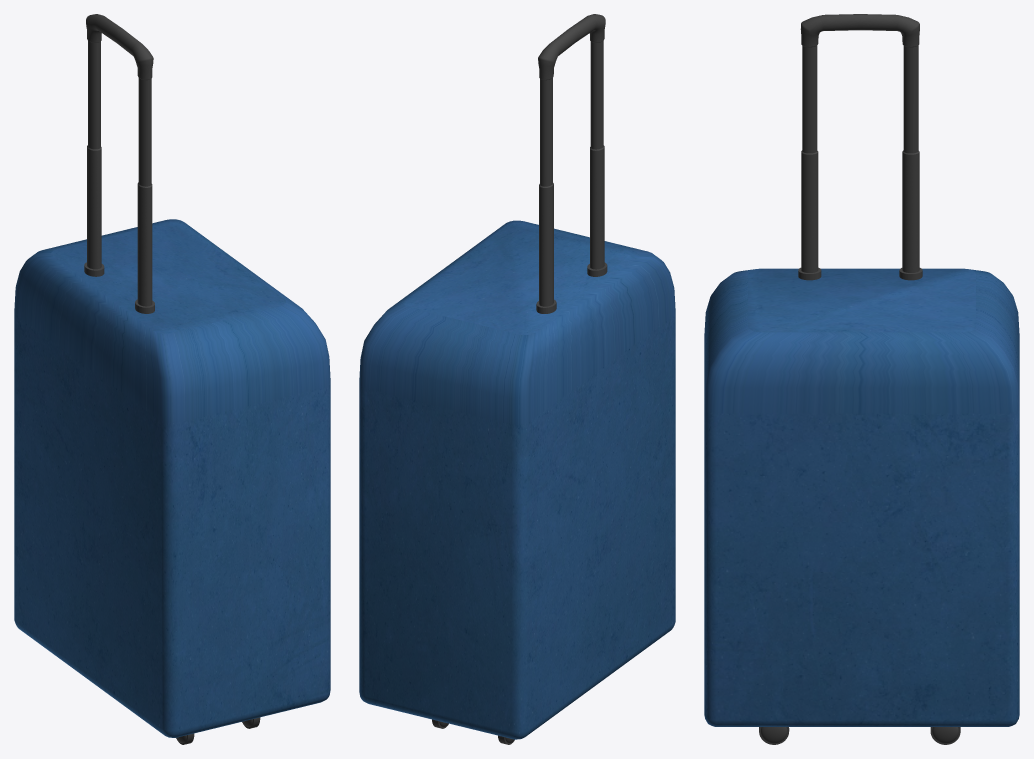
The model's file is trolley.fbx.
3 renders of one model, left to right at view 1: azimuth 30°, elevation 25°; view 2: azimuth 150°, elevation 25°; view 3: azimuth 270°, elevation 25°, orthographic.
Visible parts, largest first — view 1: TROLLEY SOZINHO.001; view 2: TROLLEY SOZINHO.001; view 3: TROLLEY SOZINHO.001.
Boxes of the visible parts, left/top/right/bottom form: TROLLEY SOZINHO.001: left=14, top=14, right=330, bottom=744; TROLLEY SOZINHO.001: left=359, top=14, right=675, bottom=744; TROLLEY SOZINHO.001: left=704, top=14, right=1019, bottom=744.
Size of the model in its own units: 26.95 by 106 by 44.01.
Materials: 2 (2 with a texture image).
